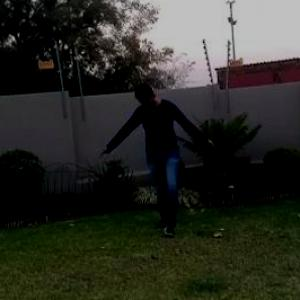land: (105, 71, 223, 243)
